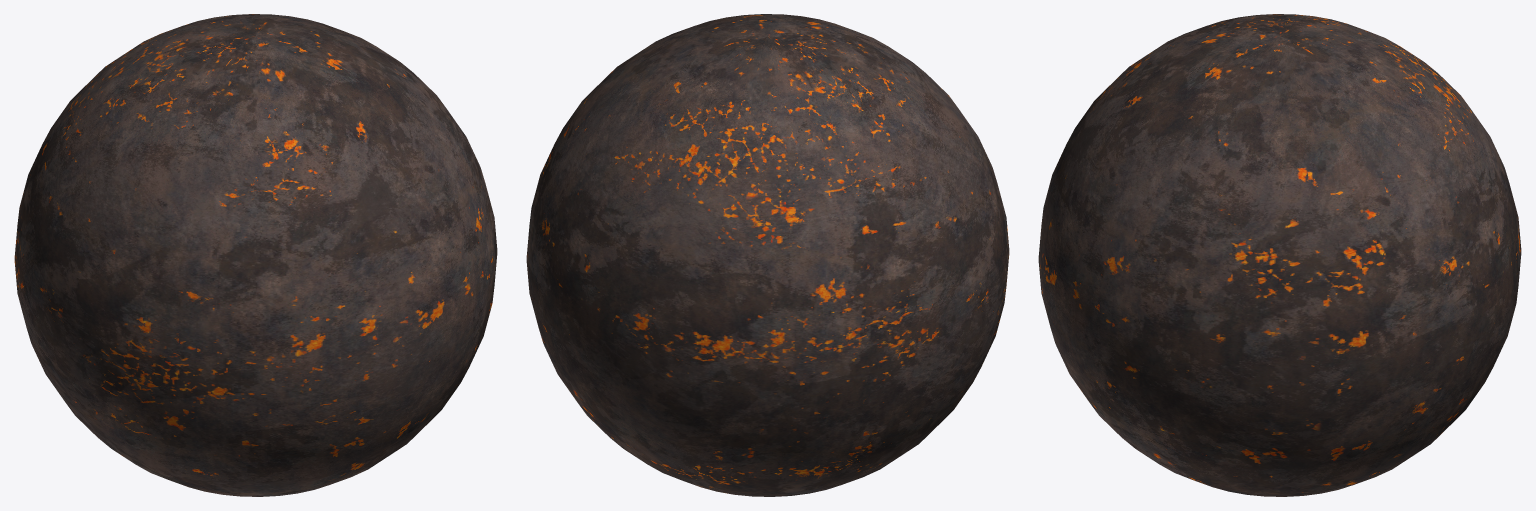
The model's file is planets.fbx.
The picture shows the model from 3 angles, left to right: view 1: azimuth 30°, elevation 25°; view 2: azimuth 150°, elevation 25°; view 3: azimuth 270°, elevation 25°; orthographic projection.
Visible parts, largest first — view 1: planet_barren; view 2: planet_barren; view 3: planet_barren.
Part boxes in pixels (<box>): planet_barren: <box>14,14,497,496</box>; planet_barren: <box>526,14,1009,496</box>; planet_barren: <box>1038,14,1521,496</box>.
Bounding box in the file's own units: 200 × 200 × 200.
1 material, 1 textured.
